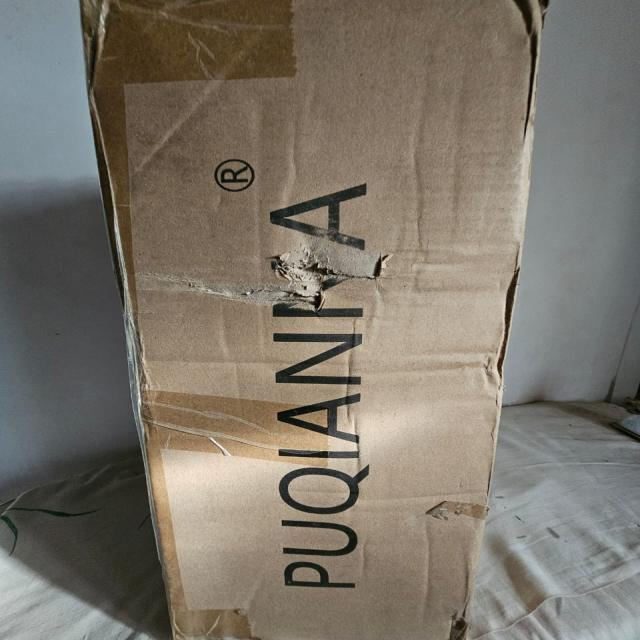carton_box: (68, 0, 552, 640)
package_damage: (242, 224, 401, 322), (410, 488, 505, 640)
